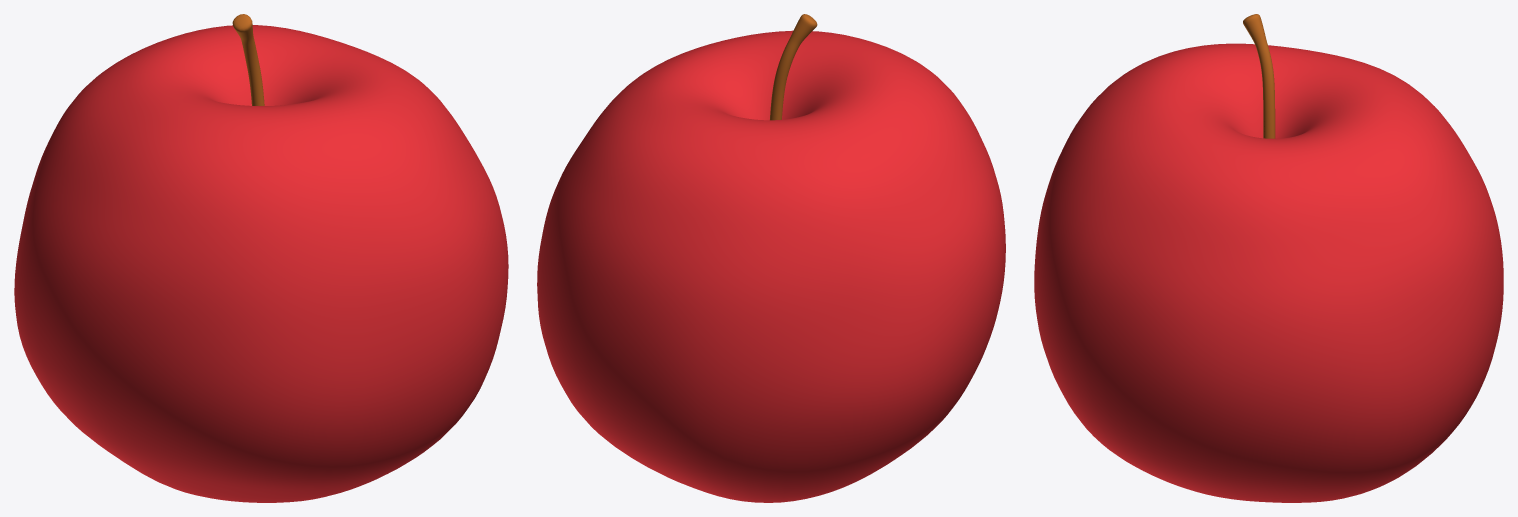
File: procedural apple - blender daily.fbx
The picture shows the model from 3 angles, left to right: view 1: azimuth 30°, elevation 25°; view 2: azimuth 150°, elevation 25°; view 3: azimuth 270°, elevation 25°; orthographic projection. The views are drawn at different scales.
Visible parts, largest first — view 1: AppleBase, AppleStalk; view 2: AppleBase, AppleStalk; view 3: AppleBase, AppleStalk.
Part boxes in pixels (<box>): AppleBase: <box>14,25,508,502</box>; AppleStalk: <box>232,14,264,105</box>; AppleBase: <box>537,30,1005,502</box>; AppleStalk: <box>770,14,817,120</box>; AppleBase: <box>1034,43,1503,502</box>; AppleStalk: <box>1243,14,1275,138</box>.
Size of the model in its own units: 145 by 150 by 144.
